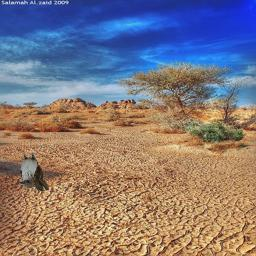Cuckoo: (19, 152, 49, 192)
